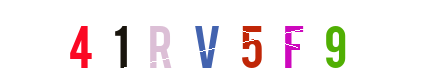1: (128, 0, 208, 80)
4: (83, 0, 163, 80)
5: (178, 0, 258, 80)
9: (296, 0, 376, 80)
F: (229, 0, 309, 80)
R: (145, 0, 225, 80)
V: (161, 0, 241, 80)
